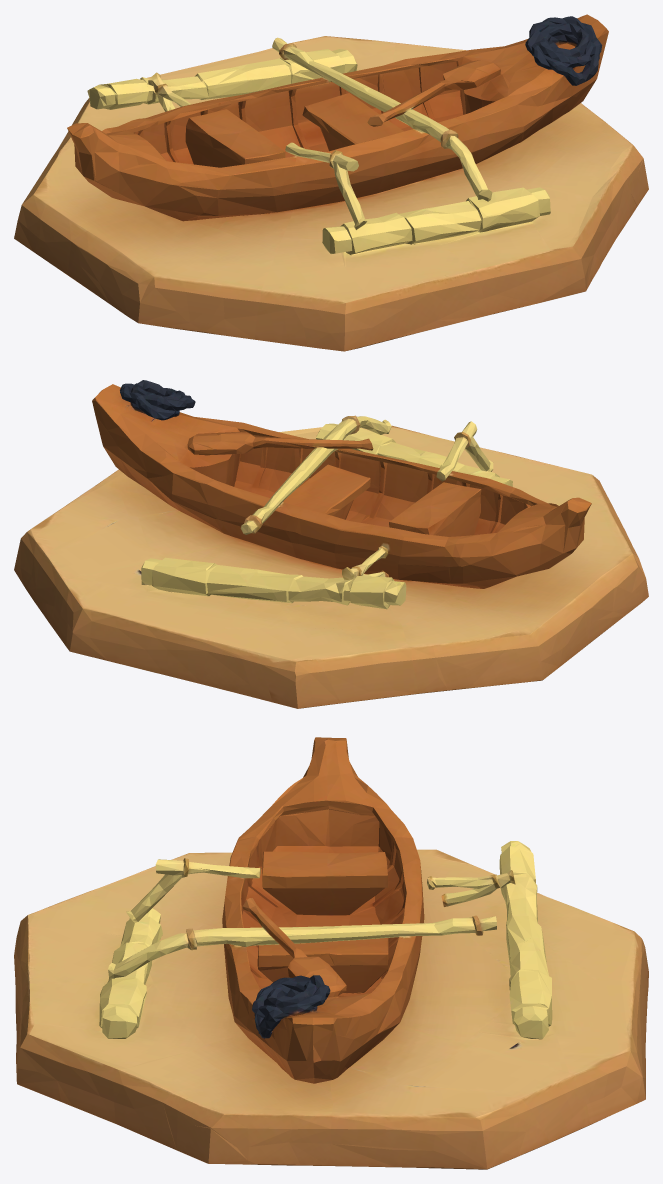
The model's file is island-boat-small.glb.
3 renders of one model, top to bottom at view 1: azimuth 30°, elevation 25°; view 2: azimuth 150°, elevation 25°; view 3: azimuth 270°, elevation 25°, orthographic. The views are drawn at different scales.
Parts seen in each view (by area): view 1: tripo_node_286a8d39-50c8-47d2-ba6a-ea96e4b669f8; view 2: tripo_node_286a8d39-50c8-47d2-ba6a-ea96e4b669f8; view 3: tripo_node_286a8d39-50c8-47d2-ba6a-ea96e4b669f8.
Part boxes in pixels (bbox=[...]): tripo_node_286a8d39-50c8-47d2-ba6a-ea96e4b669f8: bbox=[14, 14, 648, 351]; tripo_node_286a8d39-50c8-47d2-ba6a-ea96e4b669f8: bbox=[14, 380, 648, 708]; tripo_node_286a8d39-50c8-47d2-ba6a-ea96e4b669f8: bbox=[14, 737, 648, 1169].
Size of the model in its own units: 0.9999 by 0.2622 by 0.9475.
Materials: 1 (1 with a texture image).
